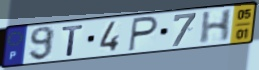4: (98, 19, 122, 53)
7: (171, 11, 199, 47)
9: (29, 25, 57, 62)
H: (198, 7, 235, 46)
P: (126, 15, 160, 53)
T: (60, 23, 86, 57)
